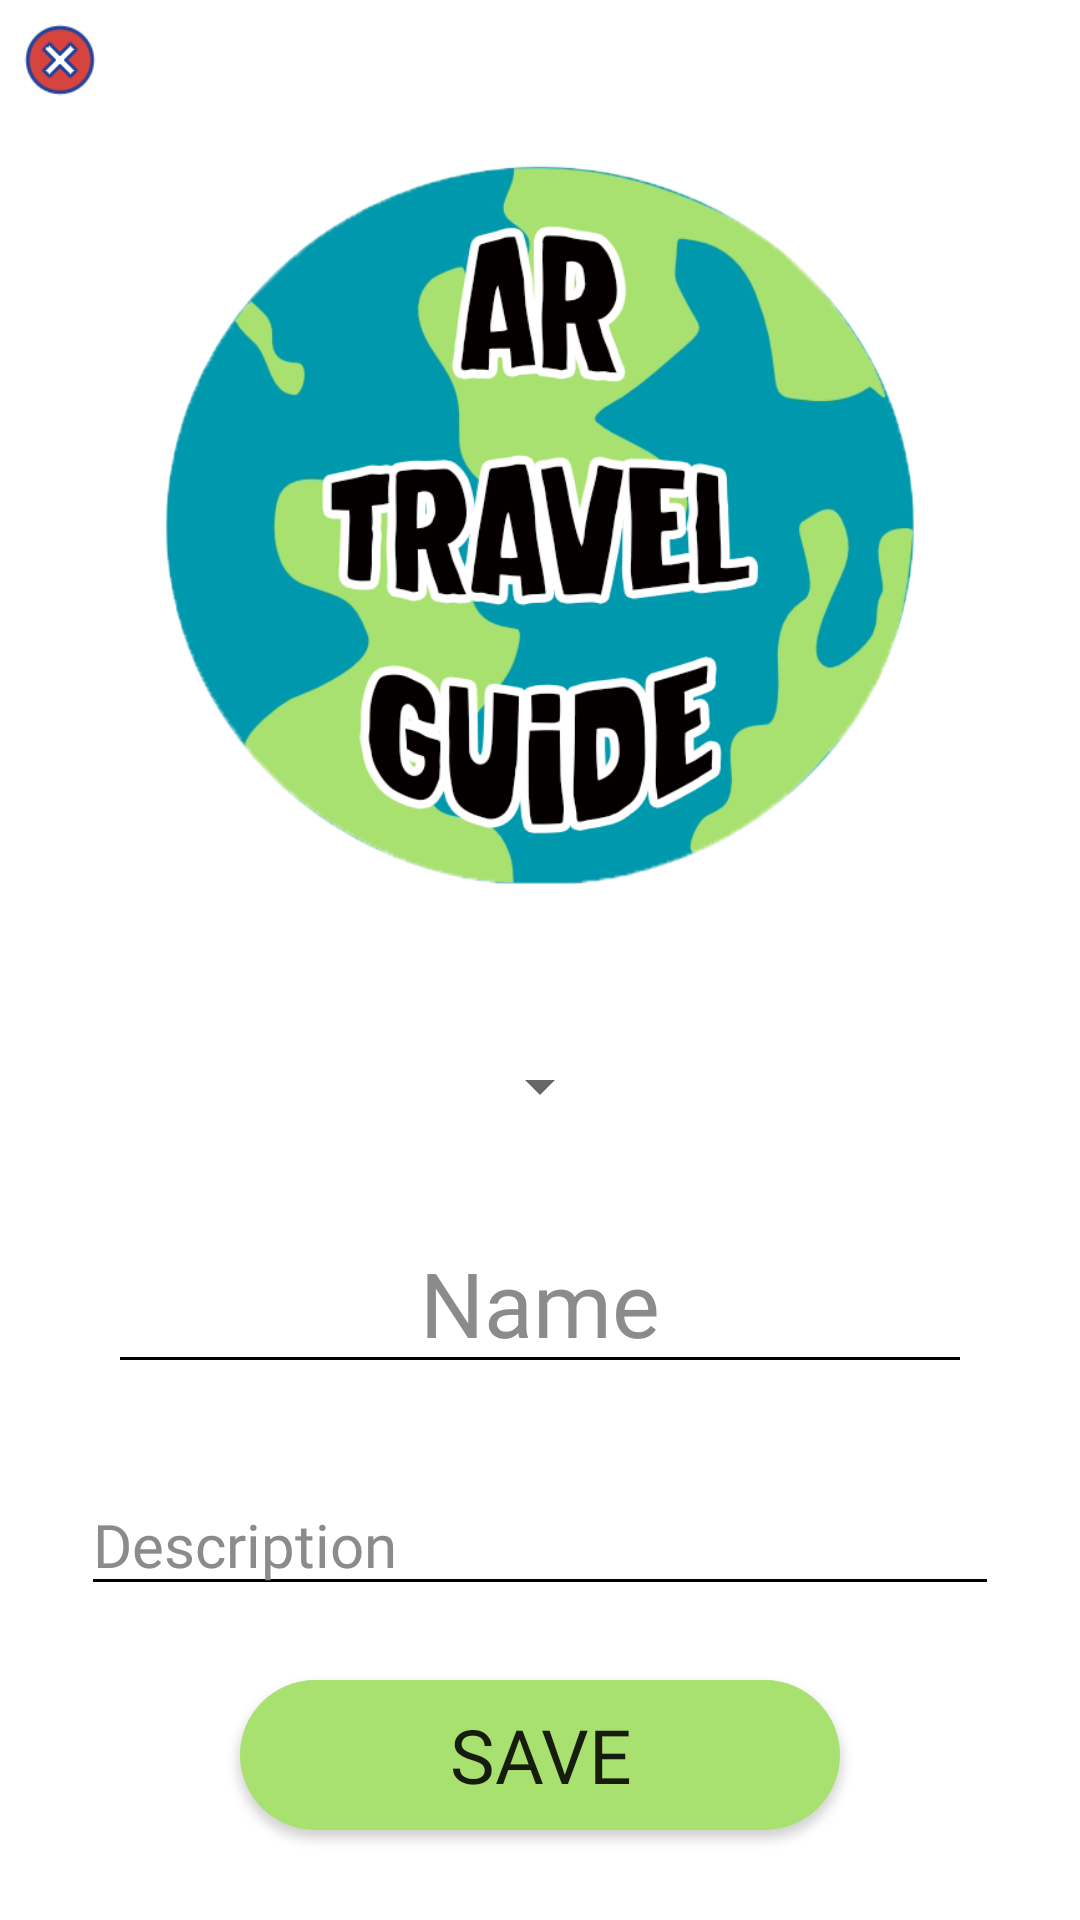

Where to tap for icons on this 1080*1920 app screen, as (x=x, y=y):
close: (x=60, y=60)
